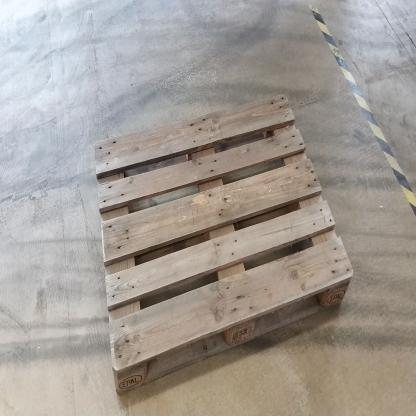BoxFace: (90, 86, 359, 403)
